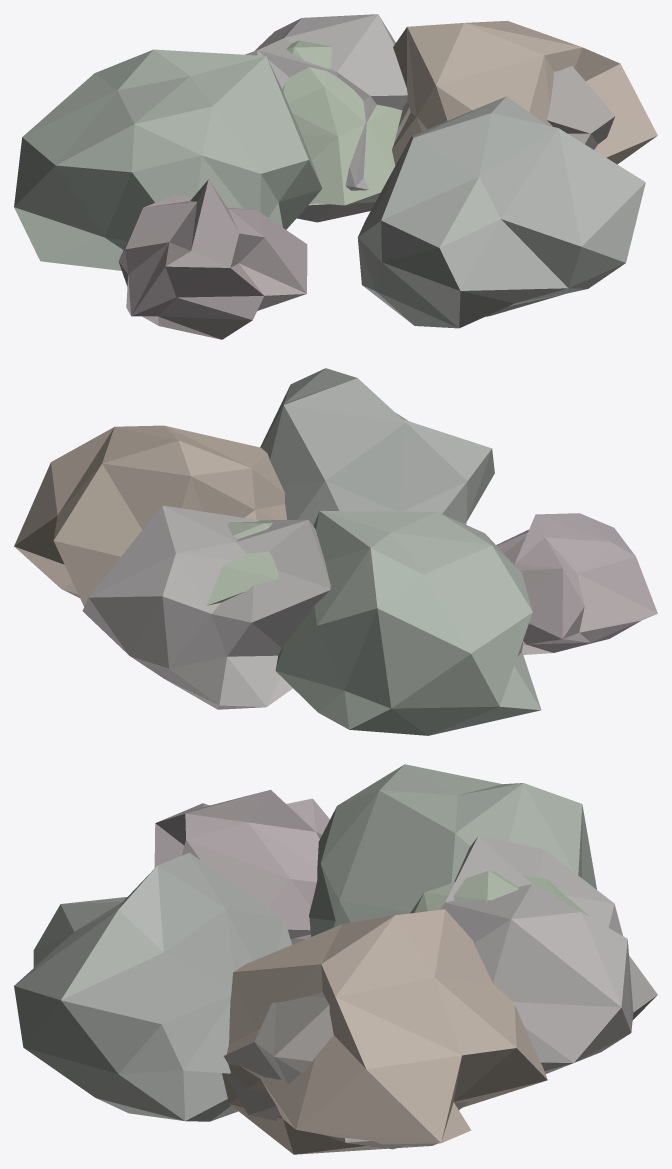
The model's file is rock_cluster_a.glb.
3 views of the same model, one above another, from view 1: azimuth 30°, elevation 25°; view 2: azimuth 150°, elevation 25°; view 3: azimuth 270°, elevation 25° (orthographic). The views are drawn at different scales.
Parts seen in each view (by area): view 1: RockCluster_5; view 2: RockCluster_5; view 3: RockCluster_5.
Part boxes in pixels (bbox=[...]): RockCluster_5: bbox=[14, 14, 657, 339]; RockCluster_5: bbox=[14, 368, 657, 735]; RockCluster_5: bbox=[14, 764, 657, 1154].
Bounding box in the file's own units: 2.46 × 0.8294 × 2.16.
